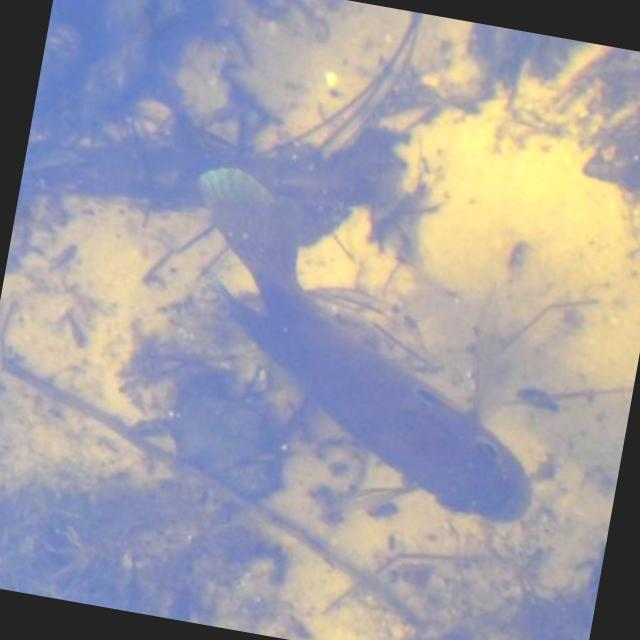Gunes Levregi: (138, 160, 586, 530)
